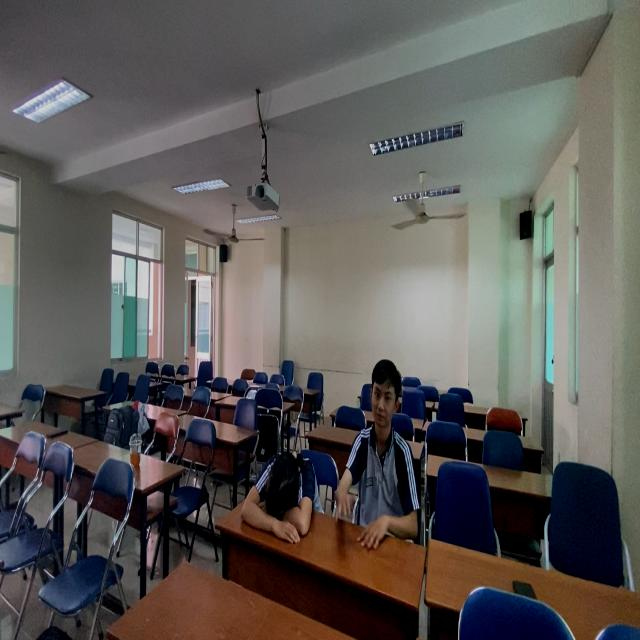sleep: (235, 441, 328, 546)
